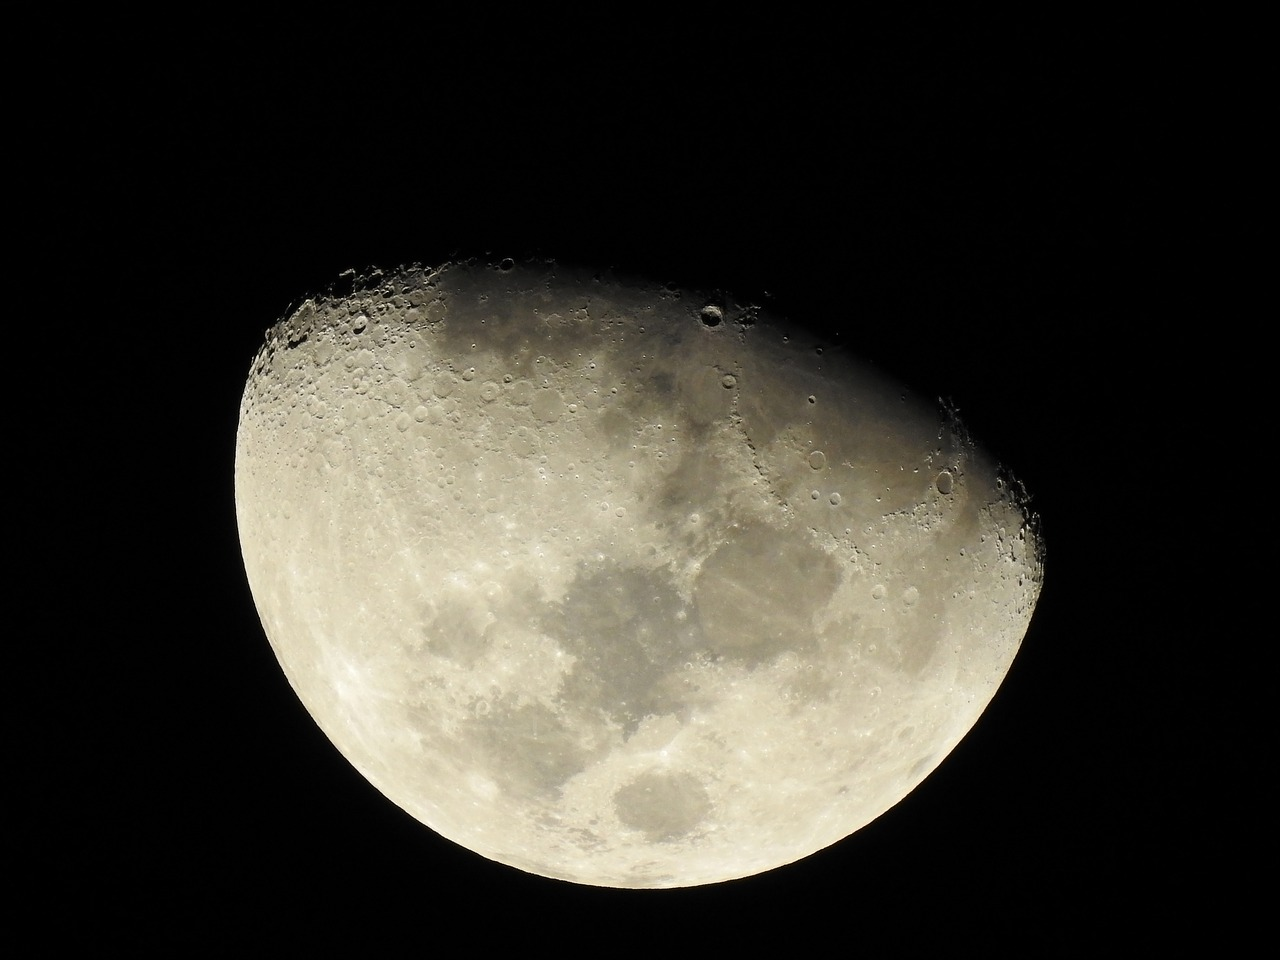crater: (600, 764, 737, 849), (687, 295, 753, 346), (453, 757, 510, 809), (914, 453, 963, 506), (877, 699, 927, 748), (489, 243, 539, 290), (815, 763, 866, 811), (423, 288, 465, 338), (343, 593, 390, 633), (677, 499, 722, 542), (800, 442, 843, 484), (710, 364, 756, 401), (534, 633, 568, 681), (795, 378, 839, 415), (647, 730, 693, 763), (475, 374, 506, 417), (857, 566, 889, 607), (344, 308, 381, 342), (898, 580, 929, 611), (382, 408, 414, 436), (447, 484, 471, 513), (430, 618, 455, 644), (612, 502, 632, 527), (862, 638, 883, 659)
